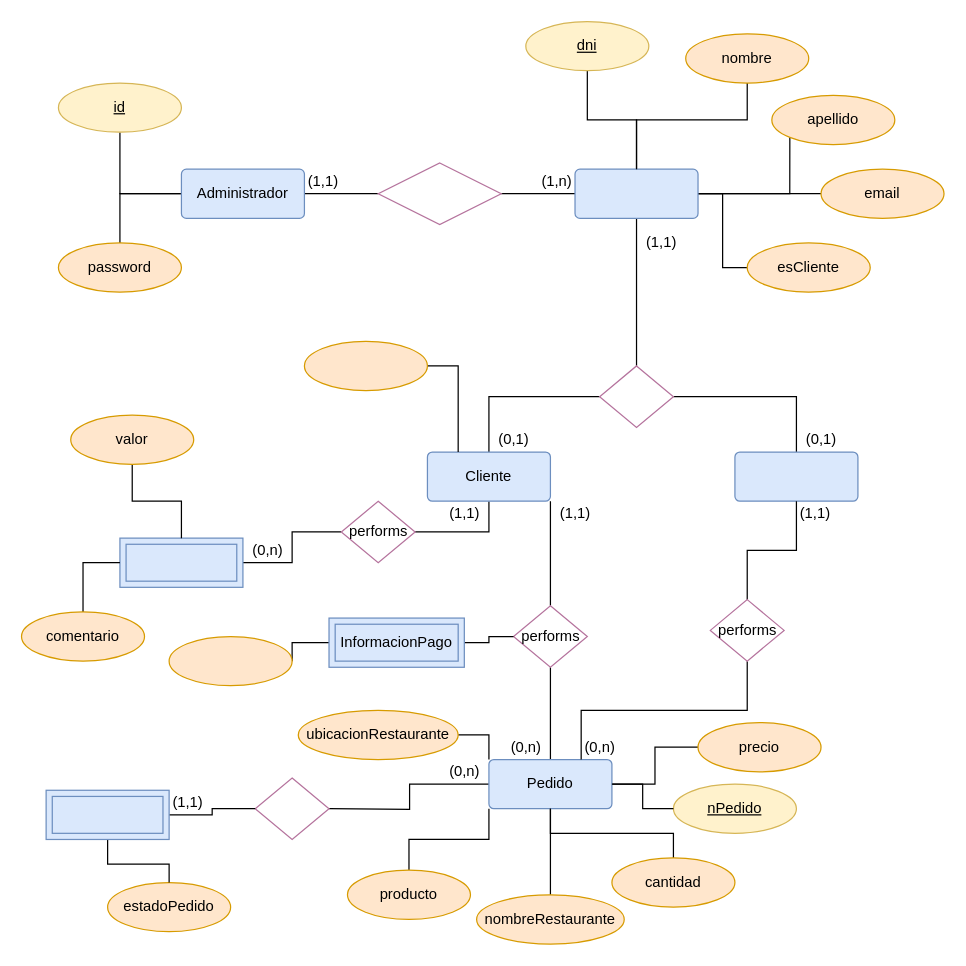
Some shapes in this 966 by 966 pixel diagram are drawn without their labels. Each missing label, with the centre of its shape:
Camarero: the point at 796,476
Cocinero: the point at 107,814
in charge of: the point at 439,193
ISA: the point at 635,396
receive: the point at 291,808
tarjetaDeCredito: the point at 230,660
ubicación: the point at 365,365
Usuario: the point at 636,193
Valoracion: the point at 181,562
